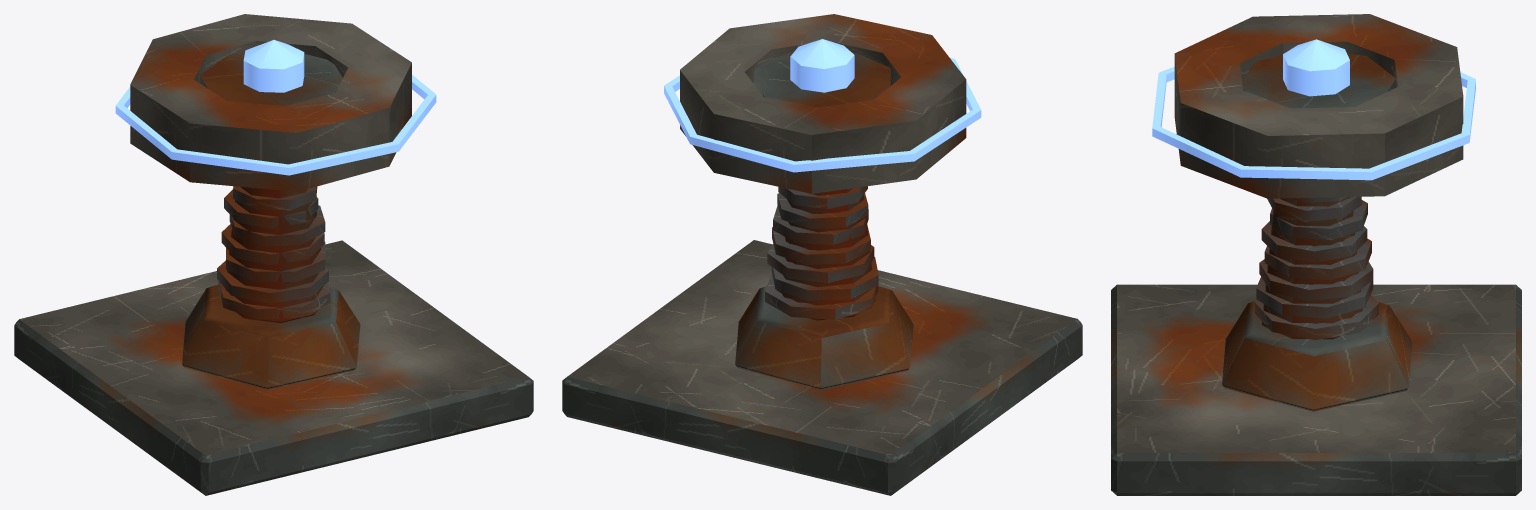
File: R4X_AreaEMP_LOD1.glb
The picture shows the model from 3 angles, left to right: view 1: azimuth 30°, elevation 25°; view 2: azimuth 150°, elevation 25°; view 3: azimuth 270°, elevation 25°; orthographic projection. The views are drawn at different scales.
Parts seen in each view (by area): view 1: R4X_AreaEMP_LOD1; view 2: R4X_AreaEMP_LOD1; view 3: R4X_AreaEMP_LOD1.
Part boxes in pixels (<box>): R4X_AreaEMP_LOD1: <box>14,14,533,495</box>; R4X_AreaEMP_LOD1: <box>562,14,1082,495</box>; R4X_AreaEMP_LOD1: <box>1111,14,1521,495</box>.
Bounding box in the file's own units: 0.52 × 0.52 × 0.52.
5 materials, 4 textured.
